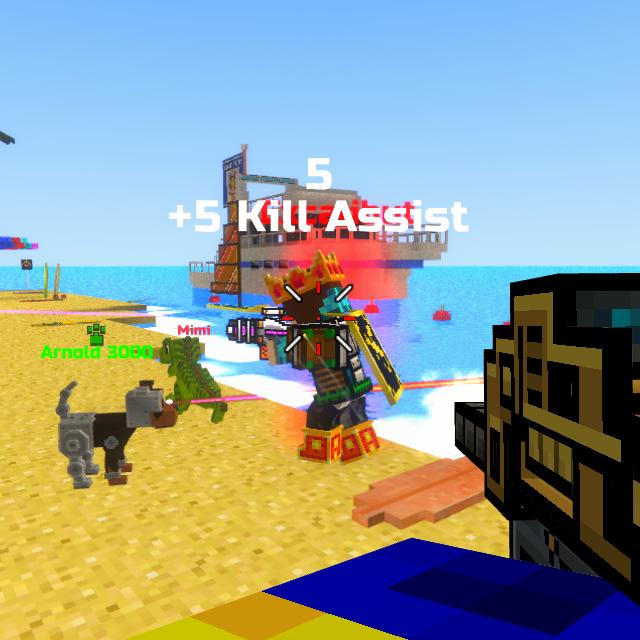Enemy: (265, 256, 406, 467)
